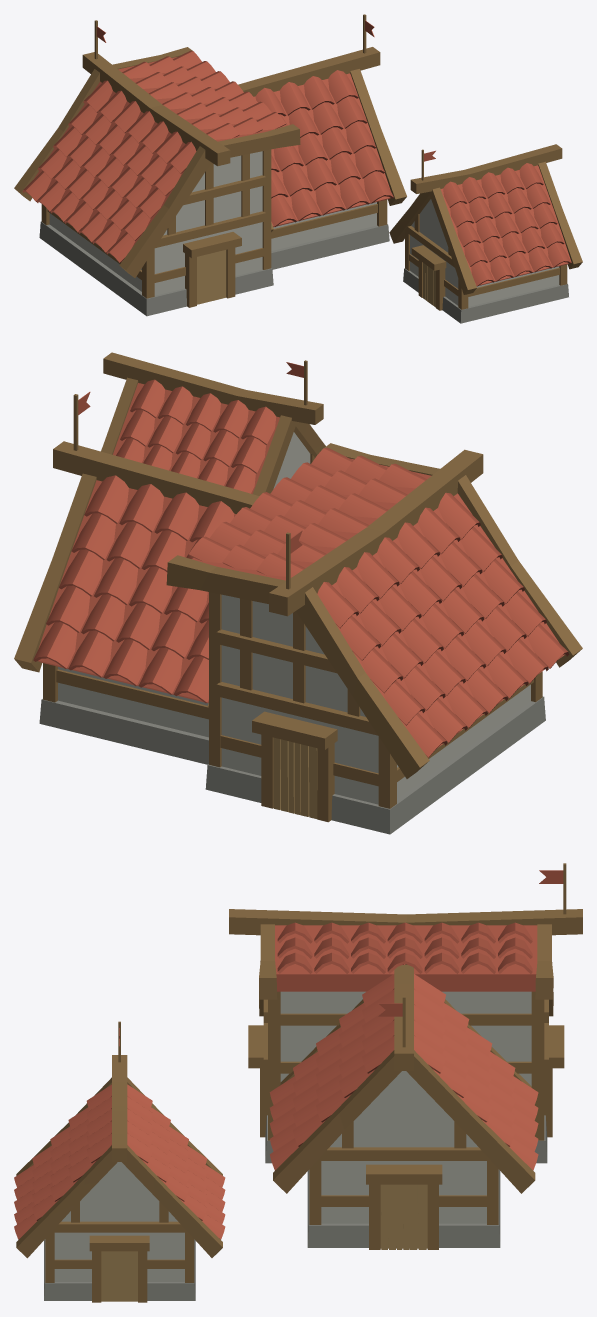
File: Houses-gEjAC1UvVU.glb
The picture shows the model from 3 angles, top to bottom: view 1: azimuth 30°, elevation 25°; view 2: azimuth 150°, elevation 25°; view 3: azimuth 270°, elevation 25°; orthographic projection. The views are drawn at different scales.
Parts seen in each view (by area): view 1: Houses_SecondAge_2_Level3; view 2: Houses_SecondAge_2_Level3; view 3: Houses_SecondAge_2_Level3.
Boxes of the visible parts, x1,y1,x2,y2 form: Houses_SecondAge_2_Level3: [14, 14, 582, 323]; Houses_SecondAge_2_Level3: [14, 352, 582, 834]; Houses_SecondAge_2_Level3: [14, 863, 582, 1302].
Bounding box in the file's own units: 1.92 × 0.9536 × 1.88.
